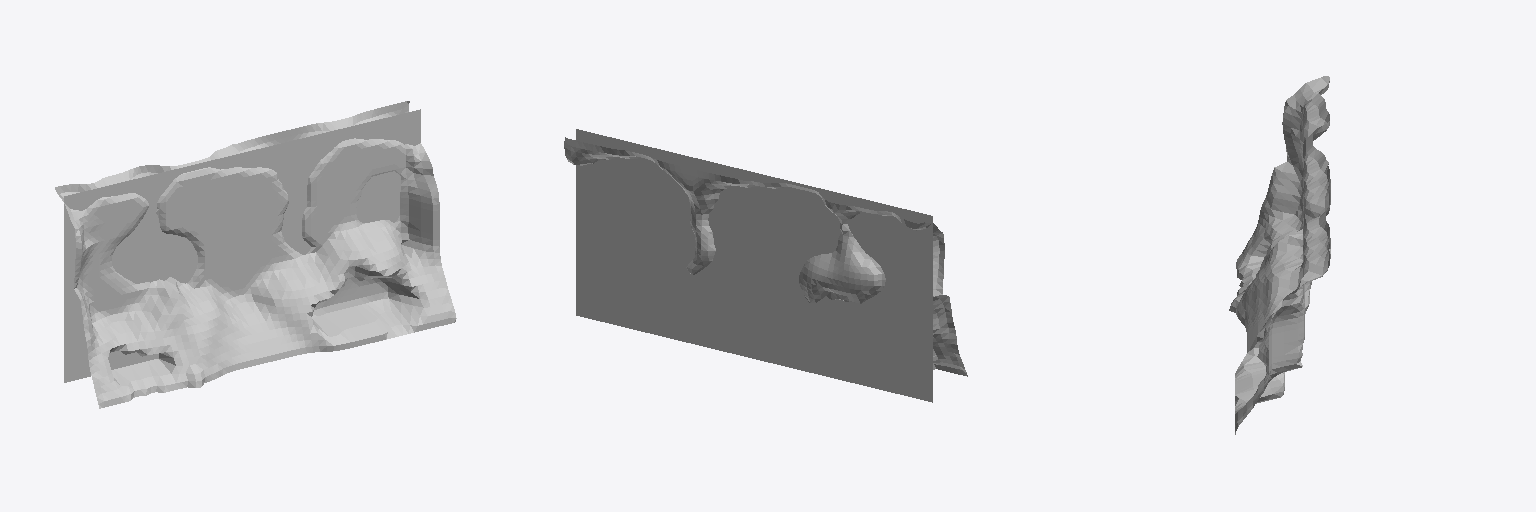
File: terrain.obj
3 renders of one model, left to right at view 1: azimuth 30°, elevation 25°; view 2: azimuth 150°, elevation 25°; view 3: azimuth 270°, elevation 25°, orthographic.
Parts seen in each view (by area): view 1: Plane_Plane.001, Plane.001_Plane.002, Plane.003_Plane.004; view 2: Plane.001_Plane.002, Plane_Plane.001; view 3: Plane_Plane.001.
Part boxes in pixels (bbox=[...]): Plane_Plane.001: bbox=[55, 101, 456, 408]; Plane.001_Plane.002: bbox=[64, 109, 420, 382]; Plane.003_Plane.004: bbox=[357, 171, 400, 222]; Plane.001_Plane.002: bbox=[576, 129, 932, 402]; Plane_Plane.001: bbox=[564, 137, 967, 376]; Plane_Plane.001: bbox=[1229, 76, 1330, 434].
Size of the model in its own units: 80 by 40 by 19.67.